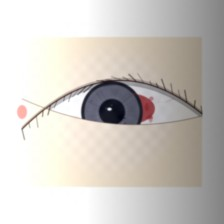hemorrhage_spot: (90, 79, 165, 139)
